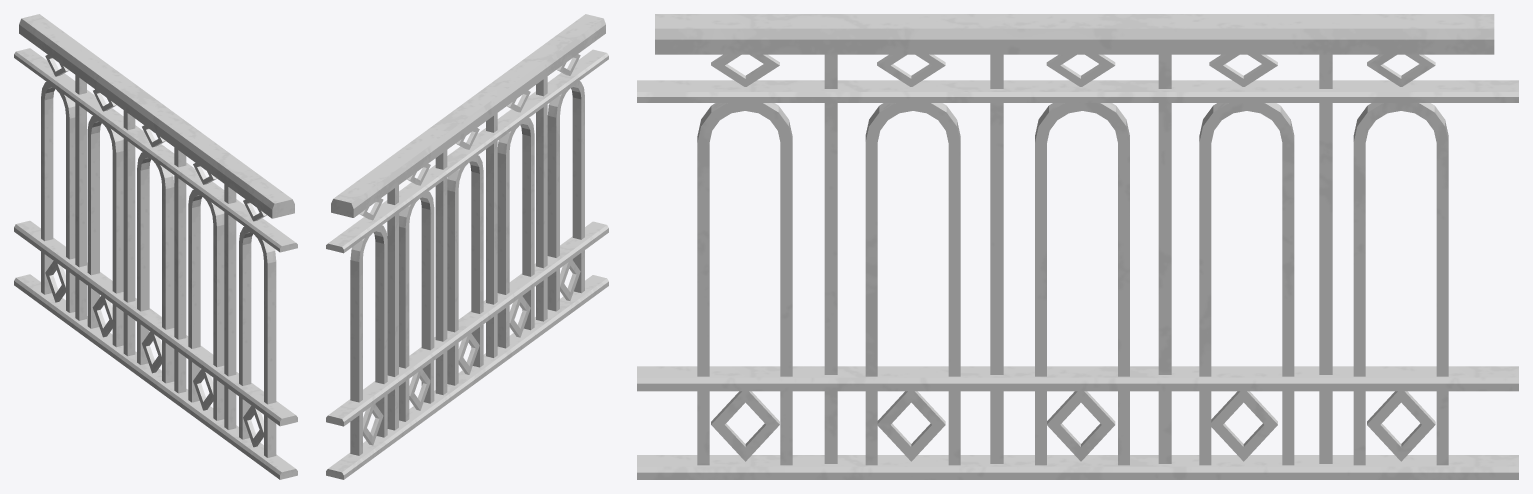
The model's file is StationFrame_C_001.fbx.
The picture shows the model from 3 angles, left to right: view 1: azimuth 30°, elevation 25°; view 2: azimuth 150°, elevation 25°; view 3: azimuth 270°, elevation 25°; orthographic projection. The views are drawn at different scales.
Parts seen in each view (by area): view 1: StationFrame_C_001; view 2: StationFrame_C_001; view 3: StationFrame_C_001.
Part boxes in pixels (box(x1,y1,x2,y2)): StationFrame_C_001: box(14, 14, 297, 479); StationFrame_C_001: box(326, 14, 608, 479); StationFrame_C_001: box(637, 14, 1518, 479).
Bounding box in the file's own units: 6.01 × 68.77 × 122.
Materials: 2 (2 with a texture image).
